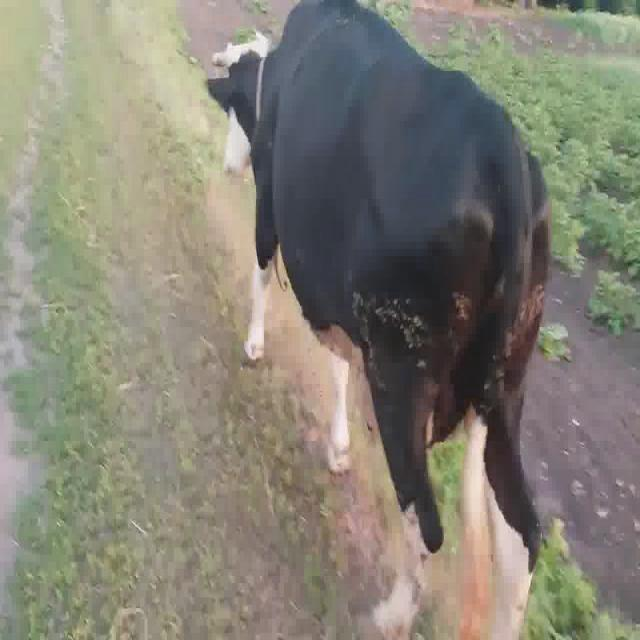cow: (209, 0, 549, 639), (376, 562, 419, 620)
